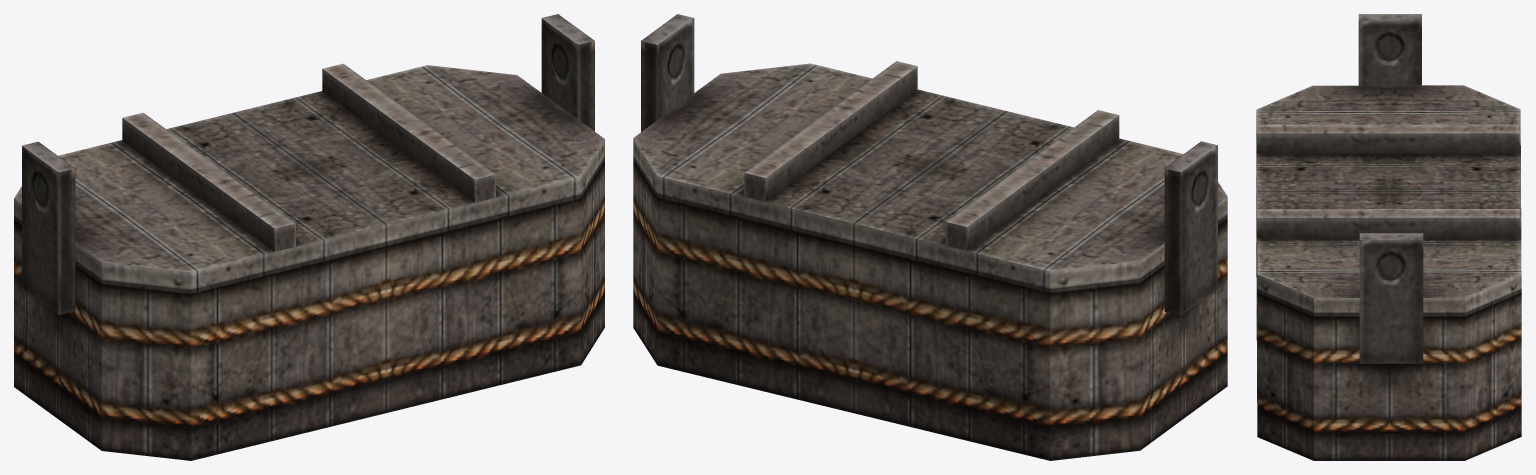
The picture shows the model from 3 angles, left to right: view 1: azimuth 30°, elevation 25°; view 2: azimuth 150°, elevation 25°; view 3: azimuth 270°, elevation 25°; orthographic projection. The views are drawn at different scales.
Parts seen in each view (by area): view 1: objStaticMeshActor338; view 2: objStaticMeshActor338; view 3: objStaticMeshActor338.
Boxes of the visible parts, x1,y1,x2,y2 form: objStaticMeshActor338: (14, 14, 604, 460); objStaticMeshActor338: (633, 14, 1227, 460); objStaticMeshActor338: (1256, 14, 1521, 460).
Size of the model in its own units: 55.46 by 25.99 by 27.43.
1 material, 1 textured.
